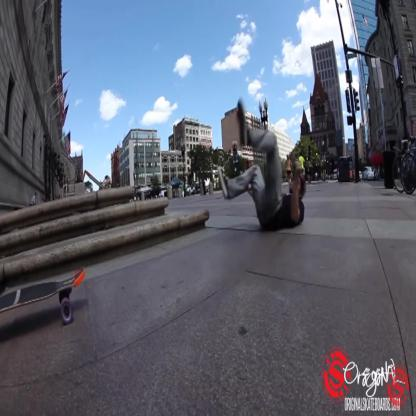Fall_Down: (216, 99, 308, 232)
